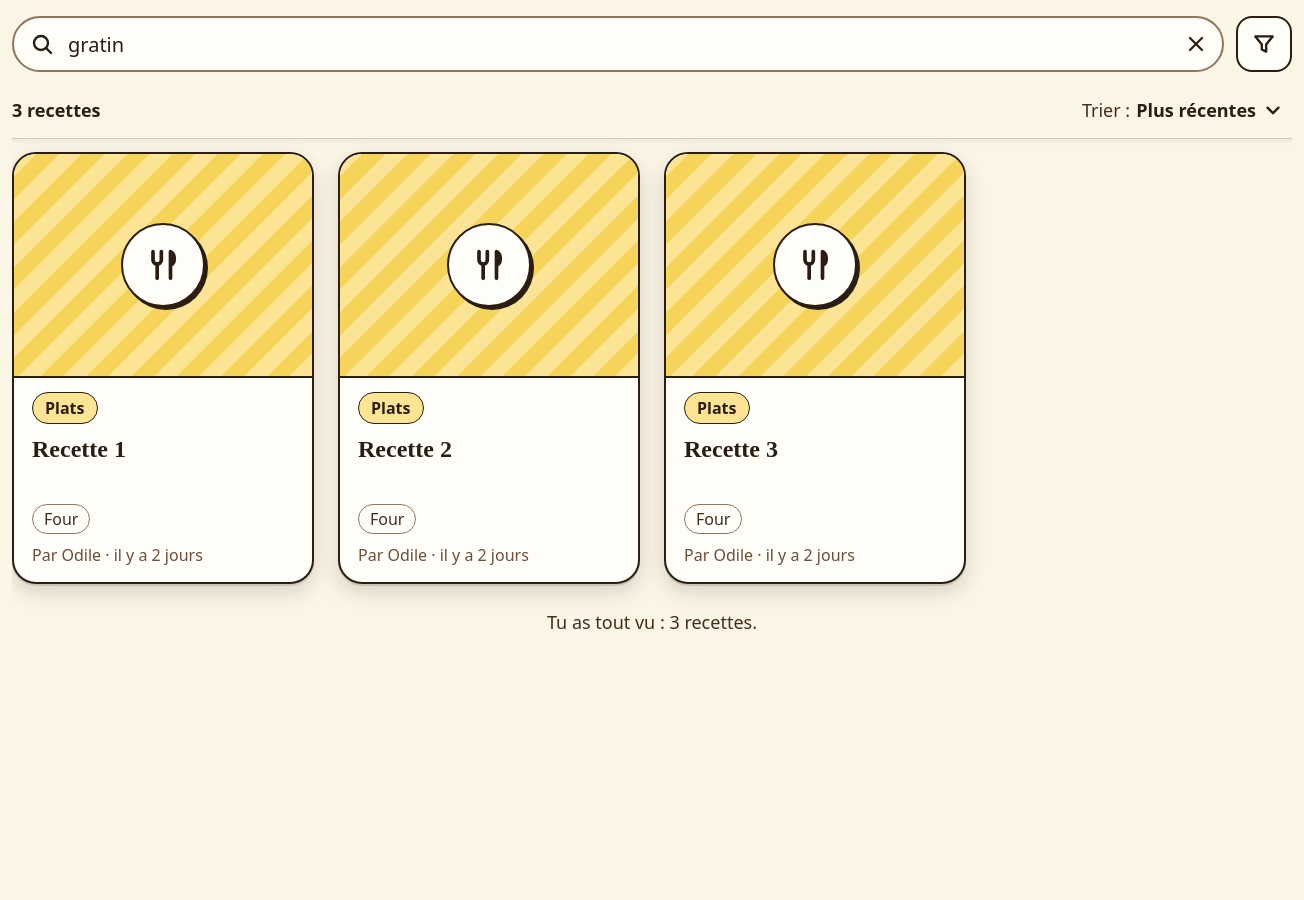
SearchScreen on a phone › the search field › empties with its cross and keeps the focus to type again
Expected: the link "Recette 1" is shown, [12,152,314,584]
Click the button named "Effacer la recherche": (1196, 44) [1172,20,1220,68]
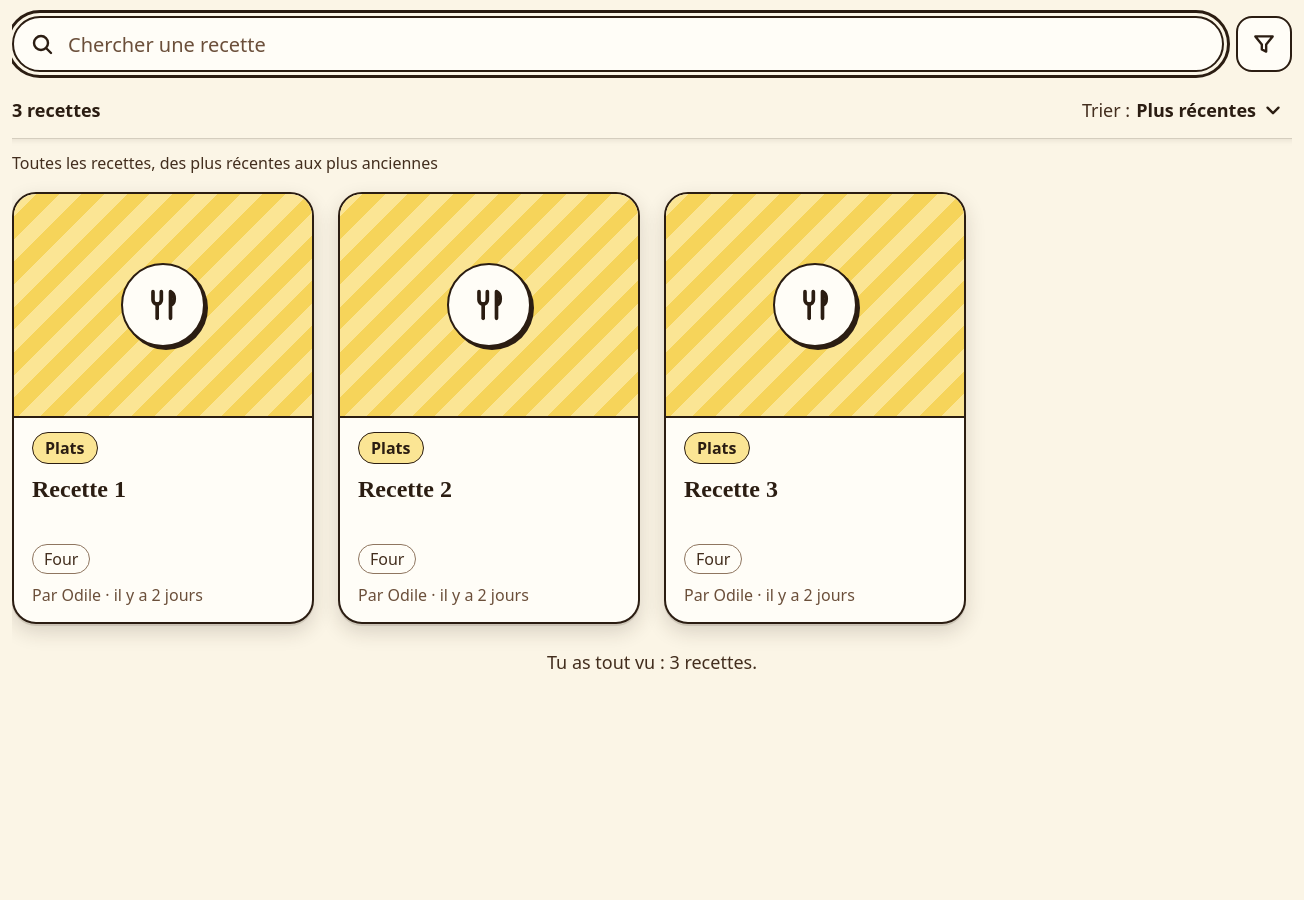
Now the search field labelled "Chercher une recette" is empty, box [12,16,1224,72]
